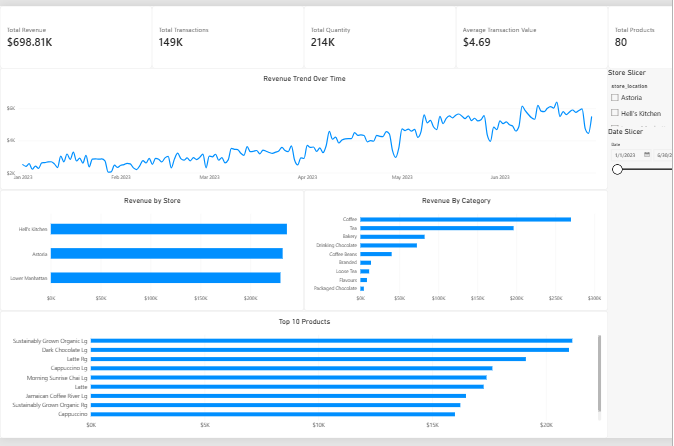

The page's visual inventory and layout, read from the dashboard file:
{"tool":"powerbi","page":{"name":"Executive Overview","canvas":[1920,1080],"ordinal":0},"visuals":[{"type":"cardVisual","fields":{"Data":["_Measures.Total Revenue"]},"box":[0,0,380,156],"z":0},{"type":"cardVisual","fields":{"Data":["_Measures.Total Quantity"]},"box":[760,0,380,156],"z":1000},{"type":"cardVisual","fields":{"Data":["_Measures.Average Transaction Value"]},"box":[1140,0,380,156],"z":2000},{"type":"cardVisual","fields":{"Data":["_Measures.Total Products"]},"box":[1520,0,380,156],"z":3000},{"type":"cardVisual","fields":{"Data":["_Measures.Total Transactions"]},"box":[380,0,380,156],"z":4000},{"type":"slicer","title":"Date Slicer","fields":{"Values":["DimDate.Date"]},"box":[1520,302,380,158],"z":5000},{"type":"slicer","title":"Store Slicer","fields":{"Values":["DimStore.store_location"]},"box":[1520,156,380,146],"z":6000},{"type":"lineChart","title":"Revenue Trend Over Time","fields":{"Category":["DimDate.Date"],"Y":["_Measures.Total Revenue"]},"box":[0,156,1520,304],"z":7000},{"type":"barChart","title":"Revenue by Store","fields":{"Category":["DimStore.store_location"],"Y":["_Measures.Total Revenue"]},"box":[0,460,760,302],"z":8000},{"type":"barChart","title":"Revenue By Category","fields":{"Category":["DimProduct.product_category"],"Y":["_Measures.Total Revenue"]},"box":[760,460,760,302],"z":9000},{"type":"barChart","title":"Top 10 Products","fields":{"Category":["DimProduct.product_detail"],"Y":["_Measures.Total Revenue"]},"box":[0,762,1520,318],"z":10000}]}

Visuals, with their boxes on the page's 1920x1080 design canvas (x1, y1, x2, y2). These are canvas units, not pixel positions in the 674x446 screenshot, which may show the page scaled, cropped or inside an application window:
cardVisual - _Measures.Total Revenue: BBox(0, 0, 380, 156)
cardVisual - _Measures.Total Quantity: BBox(760, 0, 1140, 156)
cardVisual - _Measures.Average Transaction Value: BBox(1140, 0, 1520, 156)
cardVisual - _Measures.Total Products: BBox(1520, 0, 1900, 156)
cardVisual - _Measures.Total Transactions: BBox(380, 0, 760, 156)
"Date Slicer" slicer: BBox(1520, 302, 1900, 460)
"Store Slicer" slicer: BBox(1520, 156, 1900, 302)
"Revenue Trend Over Time" lineChart: BBox(0, 156, 1520, 460)
"Revenue by Store" barChart: BBox(0, 460, 760, 762)
"Revenue By Category" barChart: BBox(760, 460, 1520, 762)
"Top 10 Products" barChart: BBox(0, 762, 1520, 1080)
